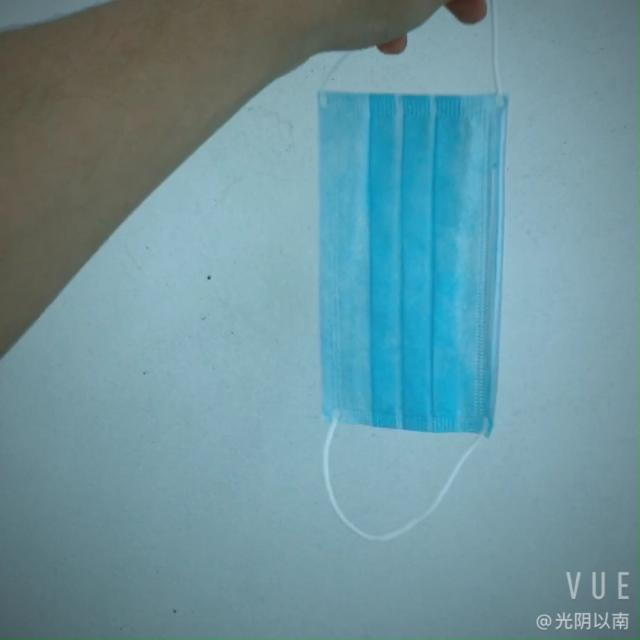face mask: (291, 32, 530, 450)
